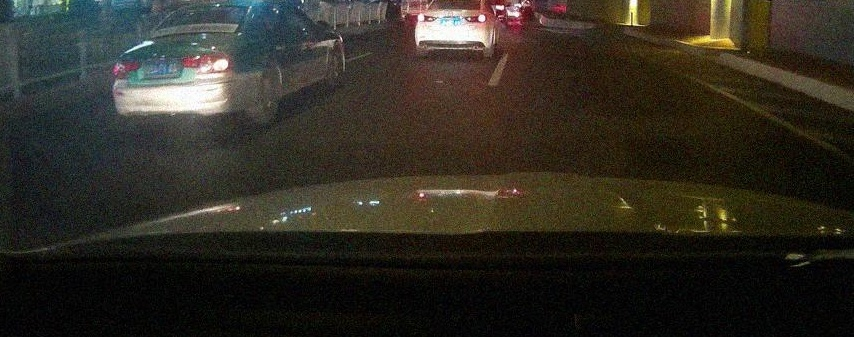L_light: (112, 60, 141, 78)
R_light: (180, 53, 232, 73)
T_light: (201, 7, 219, 12)
night-right: (112, 3, 254, 129)
